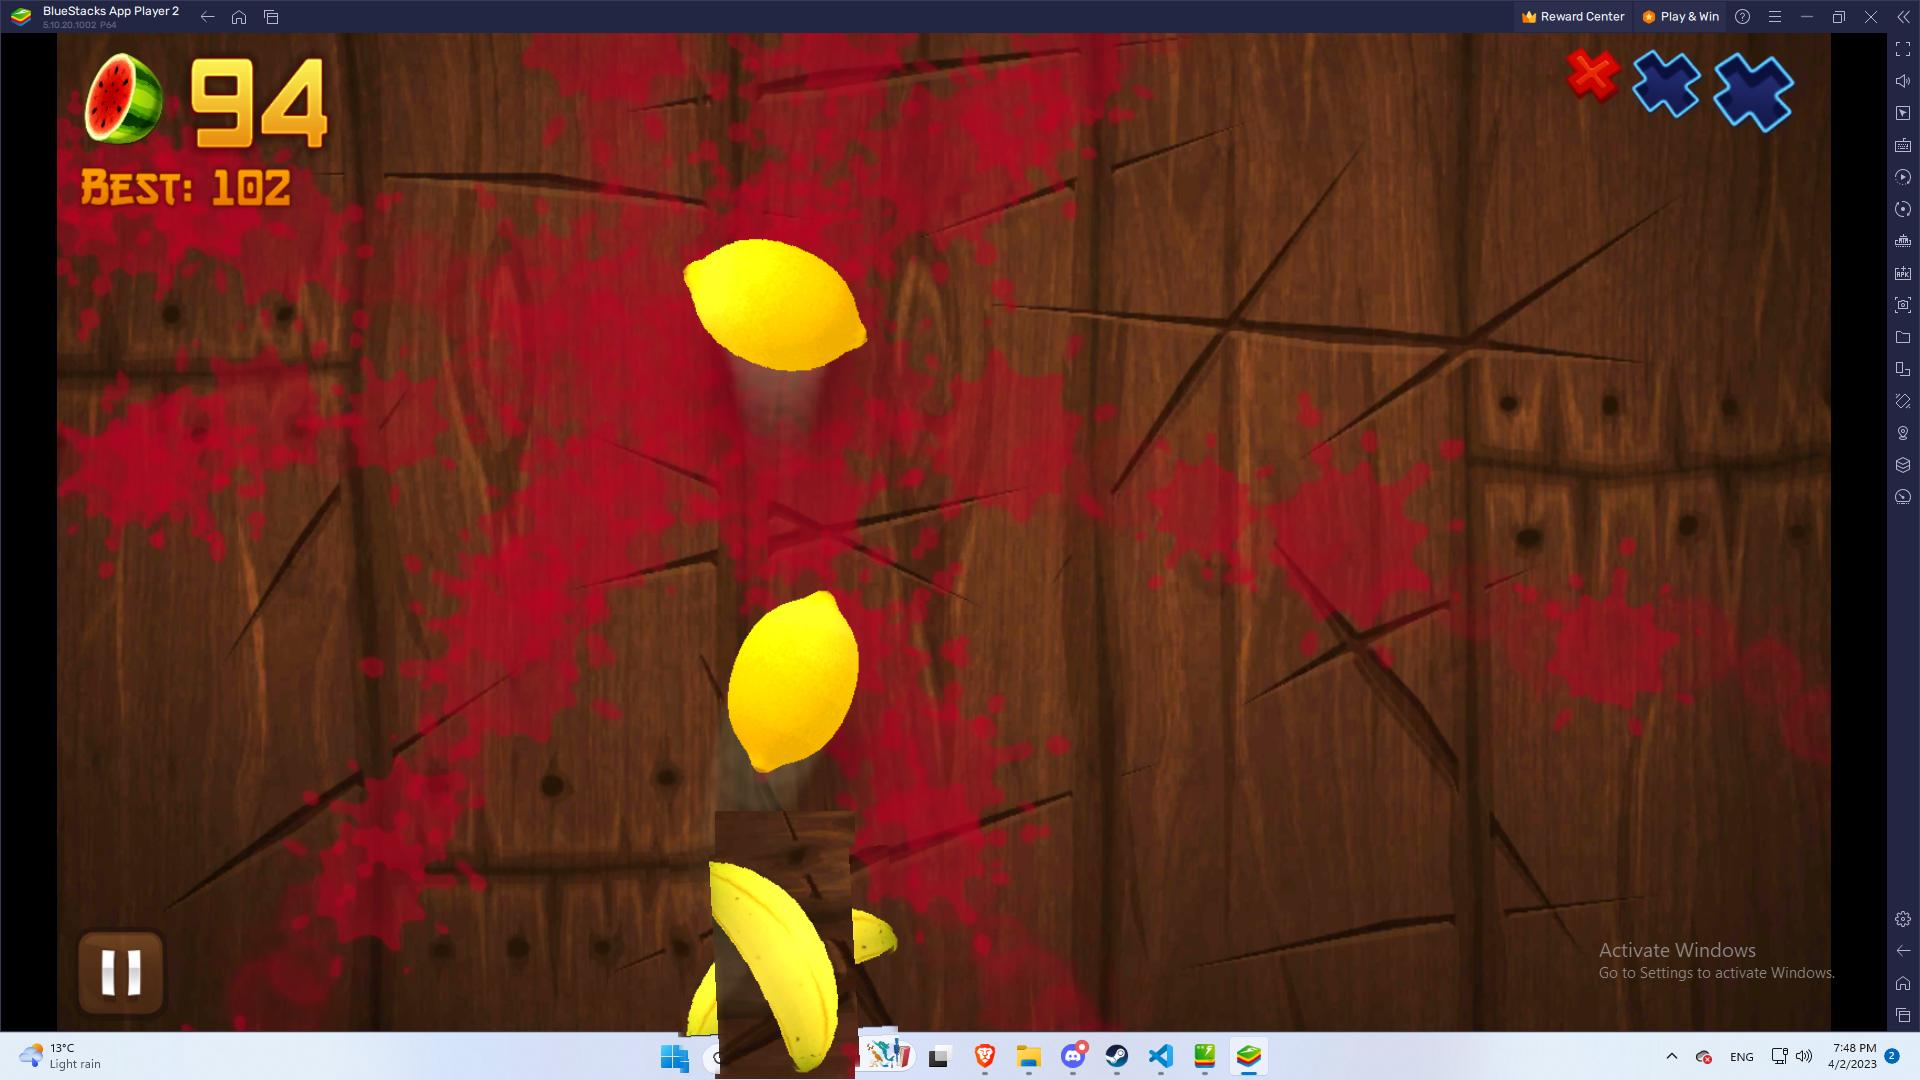fruit: (673, 848, 898, 1073), (700, 570, 872, 785), (661, 225, 885, 385)
